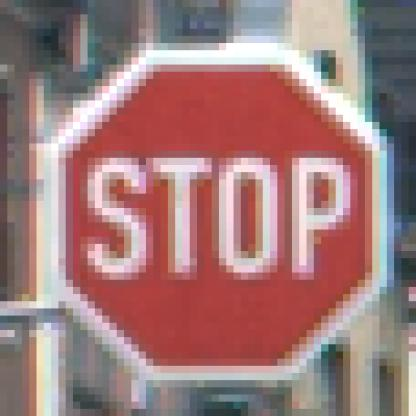Stop: (55, 52, 386, 374)
